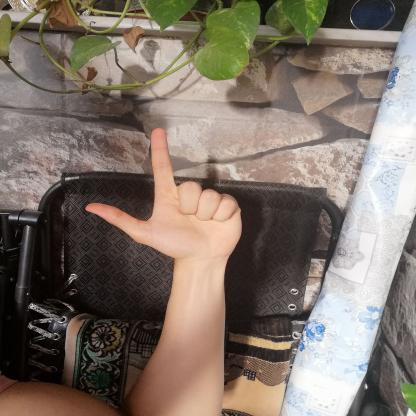LAAM: (72, 120, 255, 267)
